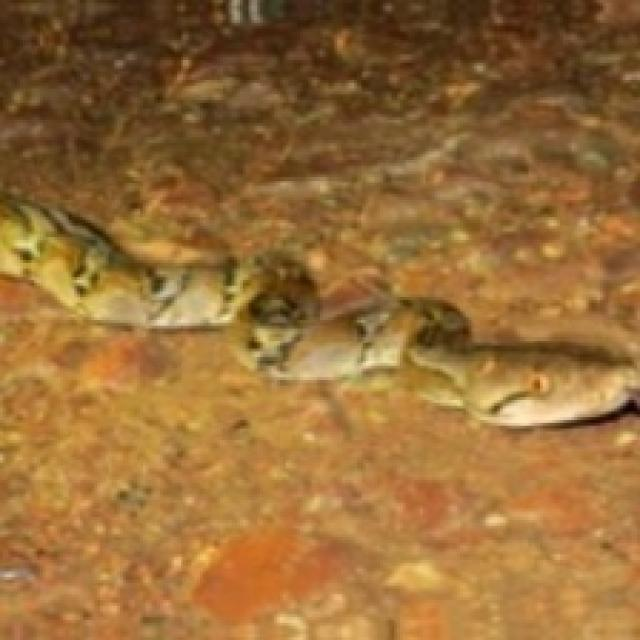reticulated python: (0, 191, 637, 426)
